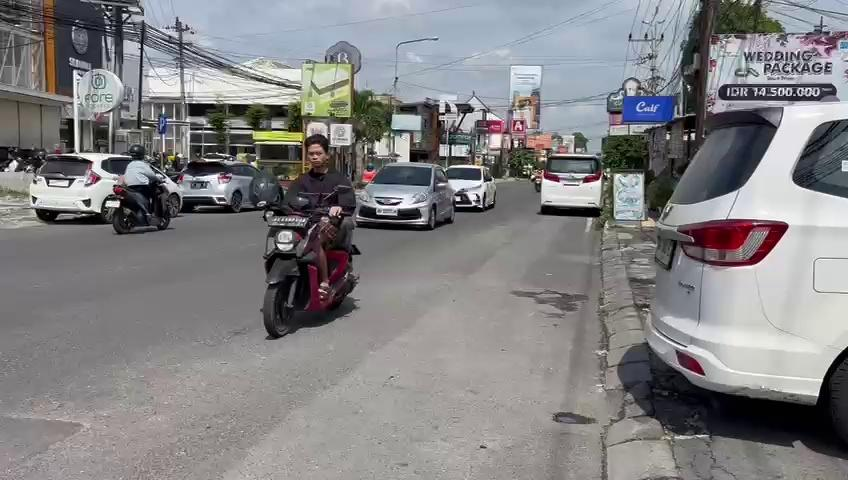nohelm: (301, 132, 334, 173)
riding: (255, 127, 374, 349)
